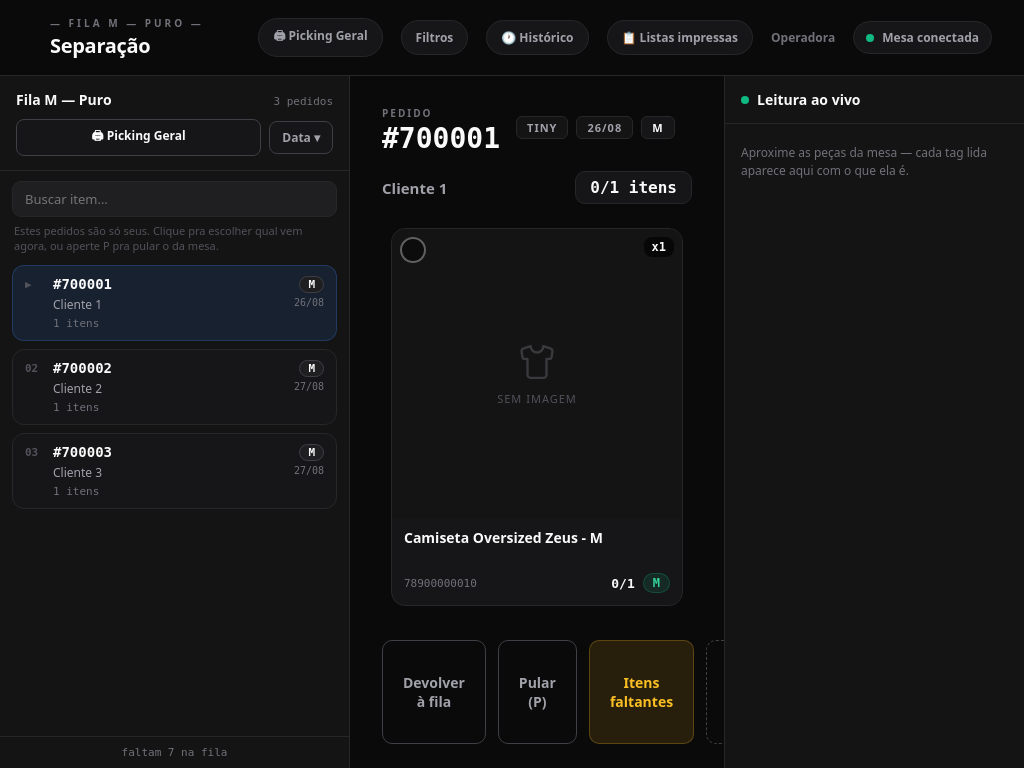
Test: seletor Data com filtro de produto ativo › soma fila e lote na contagem, sem contar o mesmo pedido duas vezes
Step 1. Click the button "Data ▾" → click(301, 138), box [269,121,333,154]
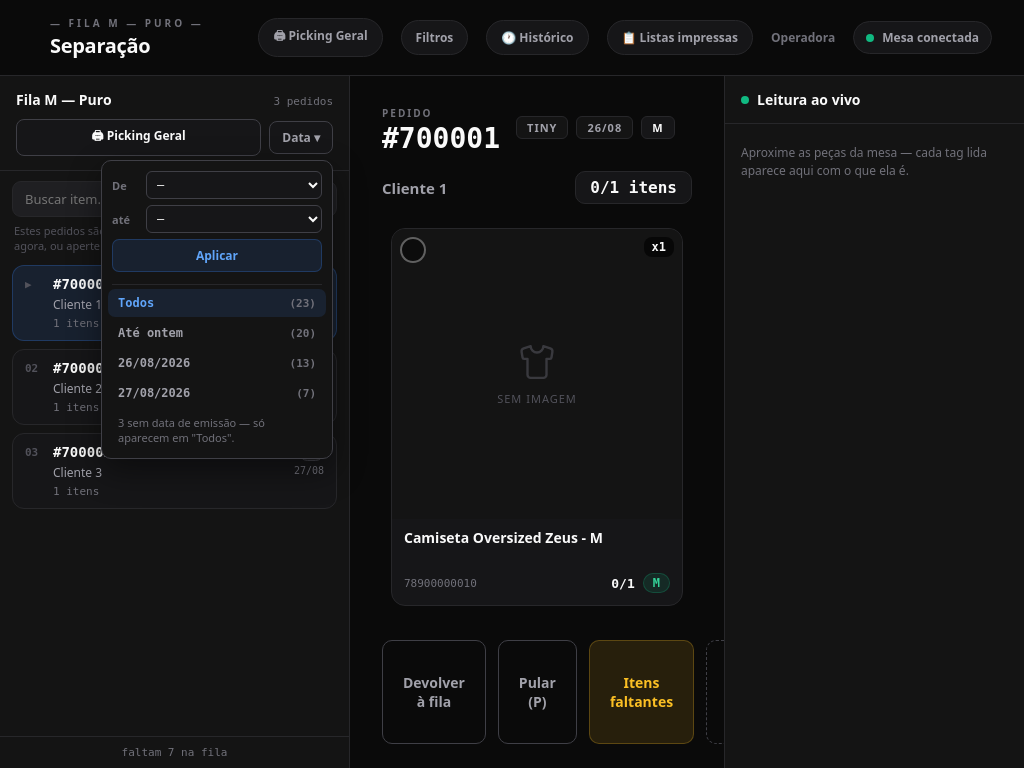
Expected: the button "26/08/2026 (13)" is shown, [108,349,326,377]
Expected: the button "27/08/2026 (7)" is shown, [108,379,326,407]
Expected: the button "Todos (23)" is shown, [108,289,326,317]
